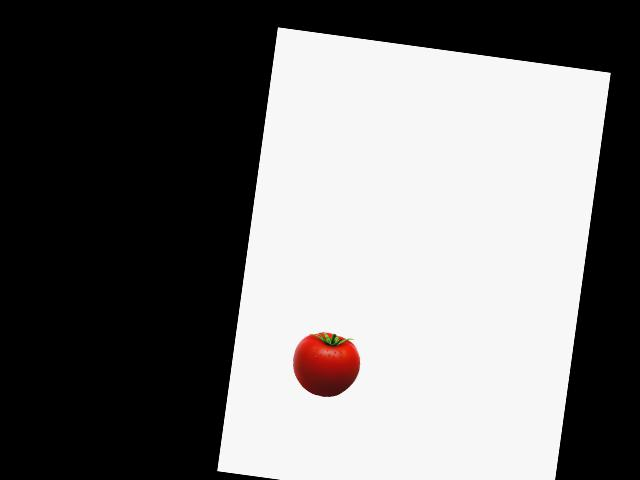tomato: (296, 329, 363, 400)
